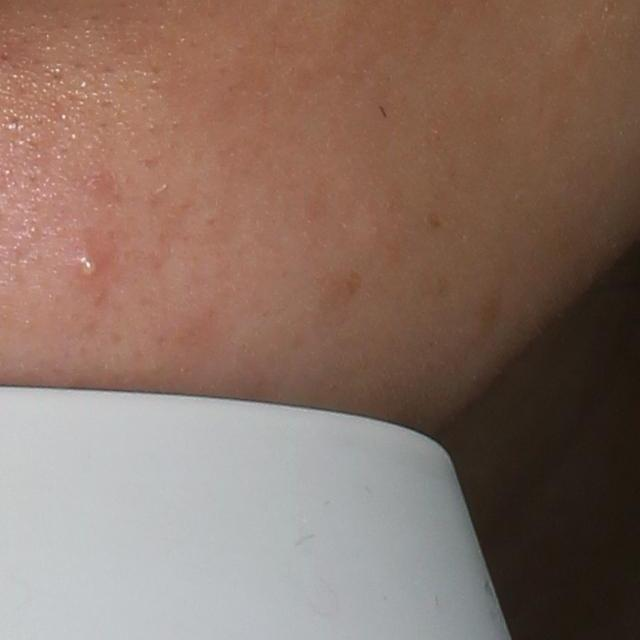pustule: (73, 250, 104, 283)
